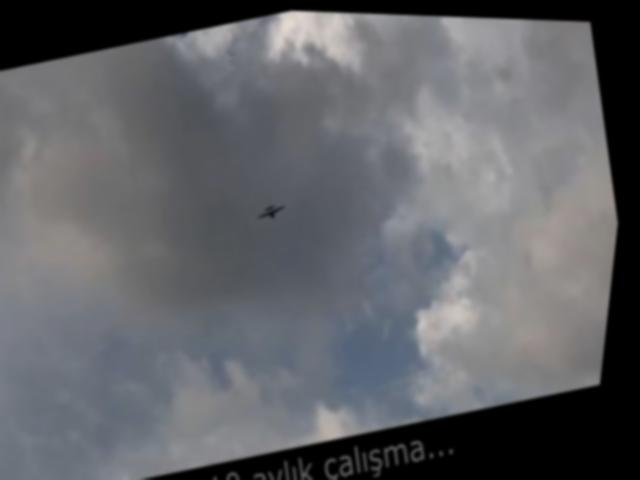uav: (250, 186, 298, 231)
